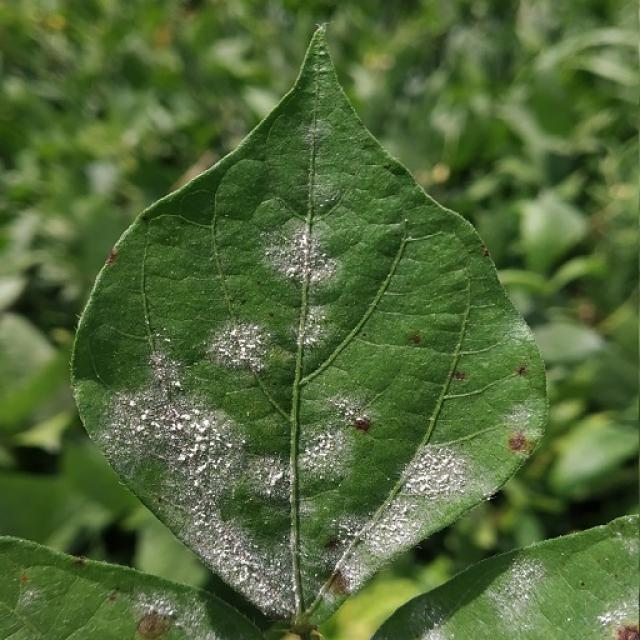Blackgram: (71, 29, 545, 618)
Powdery_Mildew: (121, 325, 407, 552), (195, 220, 353, 442), (116, 362, 242, 489), (349, 449, 478, 572), (175, 484, 281, 597), (254, 228, 349, 301), (262, 219, 339, 302), (474, 554, 558, 630), (394, 446, 470, 505), (169, 404, 230, 469), (297, 418, 351, 486), (242, 445, 306, 502), (141, 353, 197, 413), (126, 590, 191, 640), (210, 321, 271, 373), (290, 172, 345, 218), (497, 400, 542, 453), (375, 502, 423, 544), (322, 394, 366, 435), (157, 406, 200, 445), (593, 604, 637, 636), (16, 584, 49, 625), (295, 230, 317, 289), (422, 452, 461, 485), (243, 580, 282, 613), (291, 320, 326, 350), (610, 532, 640, 561), (309, 429, 338, 458), (337, 520, 363, 543), (342, 406, 367, 428), (306, 123, 325, 144), (596, 611, 616, 629), (237, 343, 250, 360), (193, 432, 208, 446), (237, 566, 250, 581), (271, 469, 284, 483), (418, 479, 432, 492), (286, 265, 298, 278), (196, 462, 208, 475), (169, 421, 182, 433), (190, 443, 202, 456), (229, 327, 241, 339), (135, 423, 146, 434), (201, 417, 211, 428), (324, 197, 334, 208), (181, 413, 192, 423), (177, 453, 187, 463), (140, 411, 150, 421), (129, 399, 137, 408), (173, 379, 181, 388), (265, 248, 272, 257), (226, 441, 233, 449), (164, 337, 171, 343)
